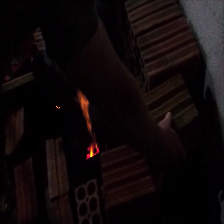fire_h: (77, 91, 91, 132)
fire_l: (86, 135, 99, 160), (55, 105, 61, 109)
